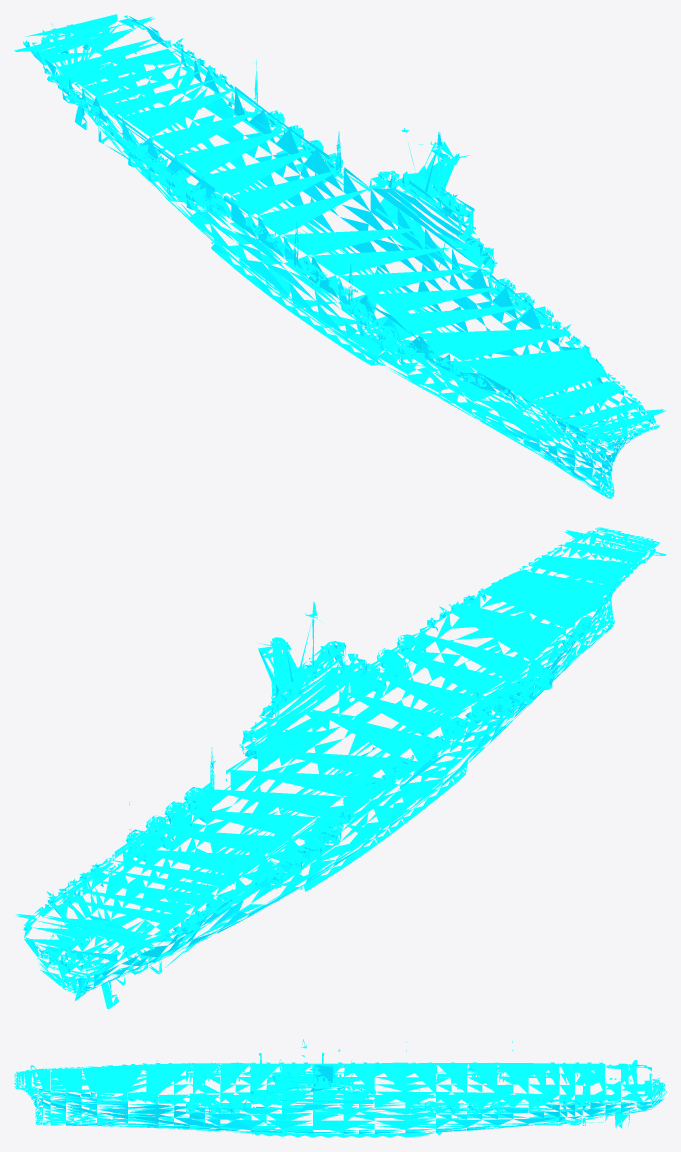
The model's file is Sekiryu.glb.
3 renders of one model, top to bottom at view 1: azimuth 30°, elevation 25°; view 2: azimuth 150°, elevation 25°; view 3: azimuth 270°, elevation 25°, orthographic. The views are drawn at different scales.
Size of the model in its own units: 3.93 by 3.69 by 21.18.
